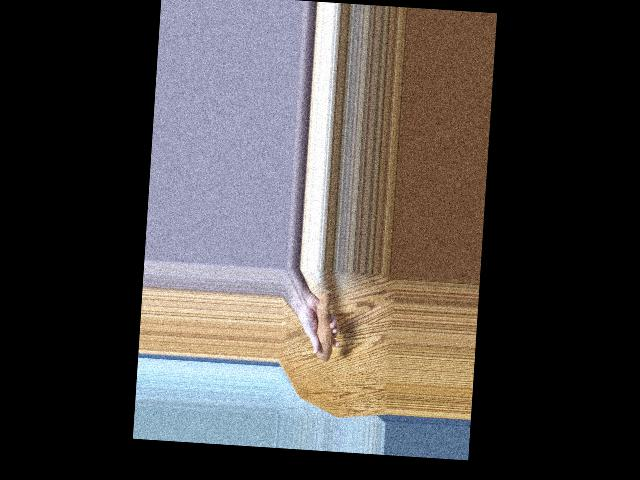sweet_potato: (305, 286, 338, 368)
